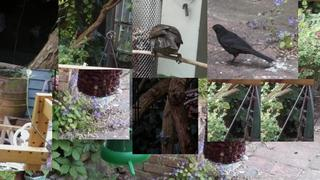blackbird: (209, 24, 274, 67)
starling: (150, 24, 183, 65)
